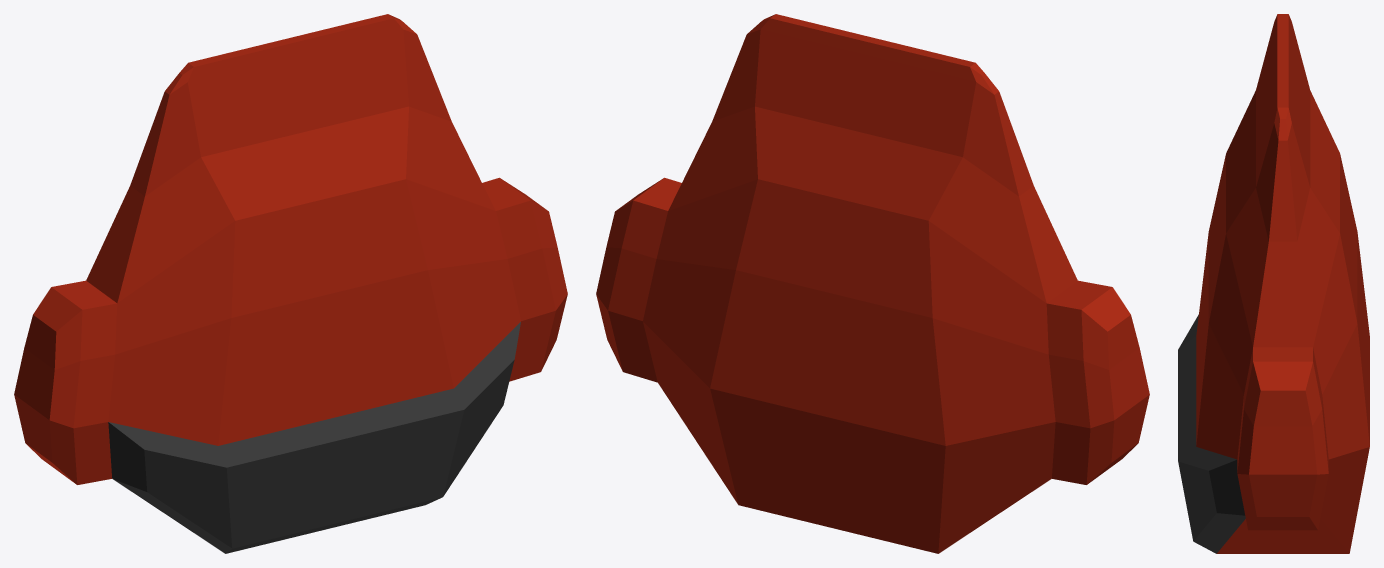
The model's file is spaceship25.gltf.
The picture shows the model from 3 angles, left to right: view 1: azimuth 30°, elevation 25°; view 2: azimuth 150°, elevation 25°; view 3: azimuth 270°, elevation 25°; orthographic projection. The views are drawn at different scales.
Parts seen in each view (by area): view 1: Hull; view 2: Hull; view 3: Hull.
Part boxes in pixels (x1,y1,x2,y2): Hull: (14, 14, 567, 553); Hull: (596, 14, 1149, 553); Hull: (1178, 14, 1369, 553).
Bounding box in the file's own units: 6.36 × 5.44 × 2.12.
Materials: 1 (1 with a texture image).
